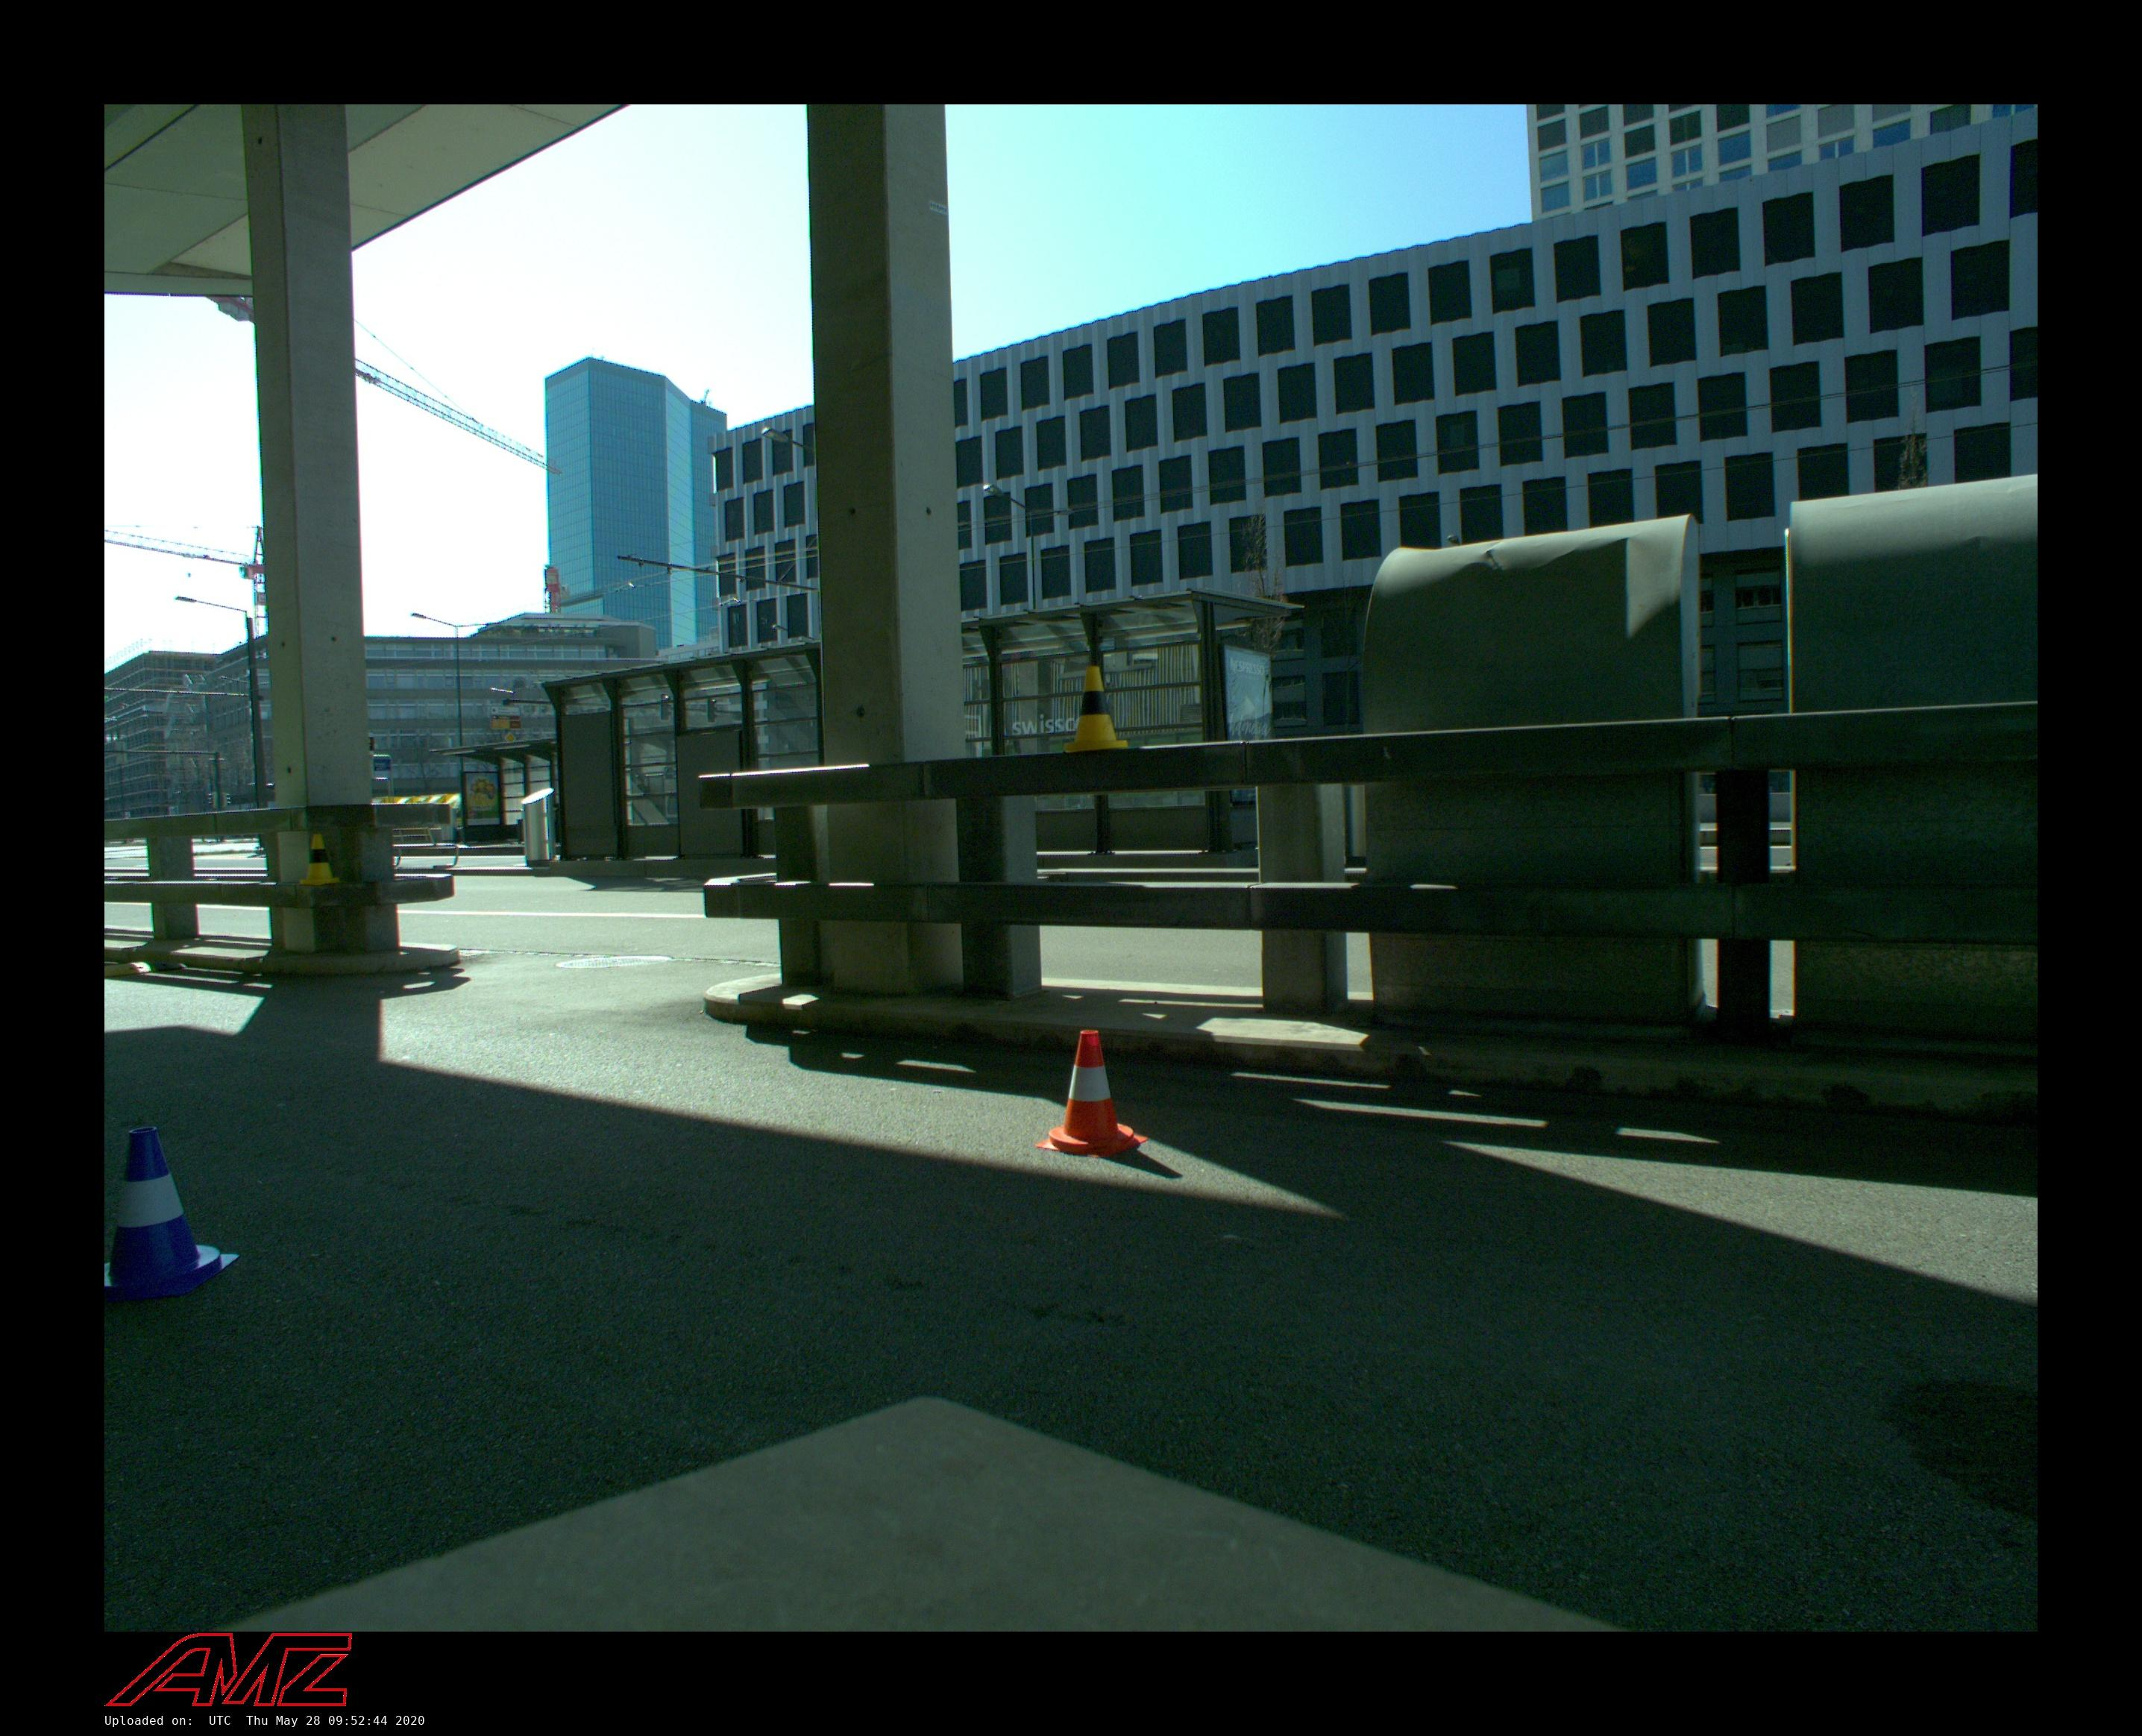blue_cone: (105, 1125, 237, 1295)
orange_cone: (1035, 1029, 1150, 1159)
yellow_cone: (1061, 666, 1129, 753), (301, 833, 338, 886)
